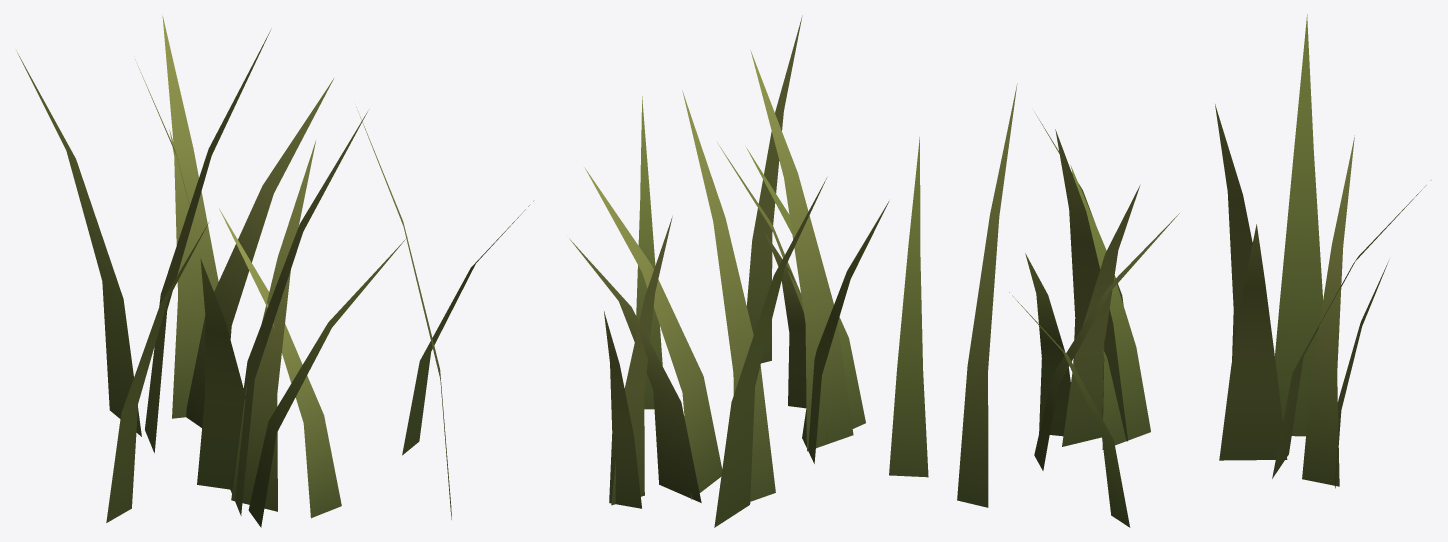
Rendered from forest_grass_a.glb.
3 views of the same model, side by side, from view 1: azimuth 30°, elevation 25°; view 2: azimuth 150°, elevation 25°; view 3: azimuth 270°, elevation 25° (orthographic). The views are drawn at different scales.
Visible parts, largest first — view 1: Keep_mesh; view 2: Keep_mesh; view 3: Keep_mesh.
Part boxes in pixels (bbox=[...]): Keep_mesh: bbox=[16, 16, 533, 527]; Keep_mesh: bbox=[569, 15, 928, 527]; Keep_mesh: bbox=[957, 14, 1430, 527].
Size of the model in its own units: 0.4157 by 0.4458 by 0.4955.
